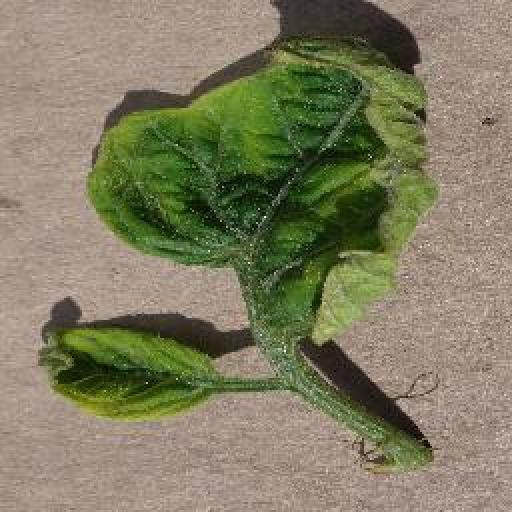disease_tomato: (88, 28, 441, 344), (35, 317, 224, 428)
